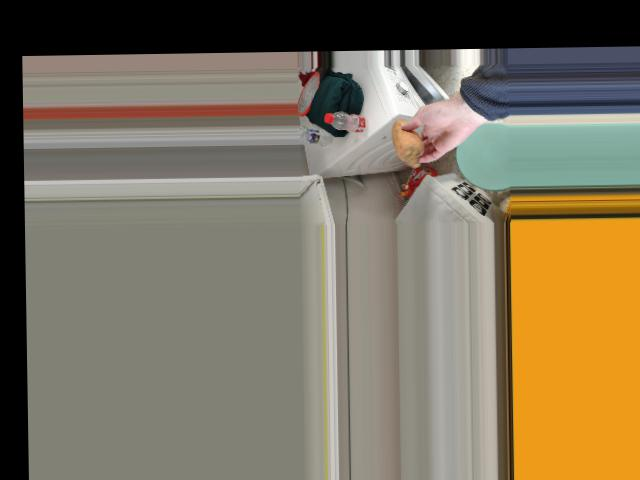sweet_potato: (391, 121, 428, 162)
